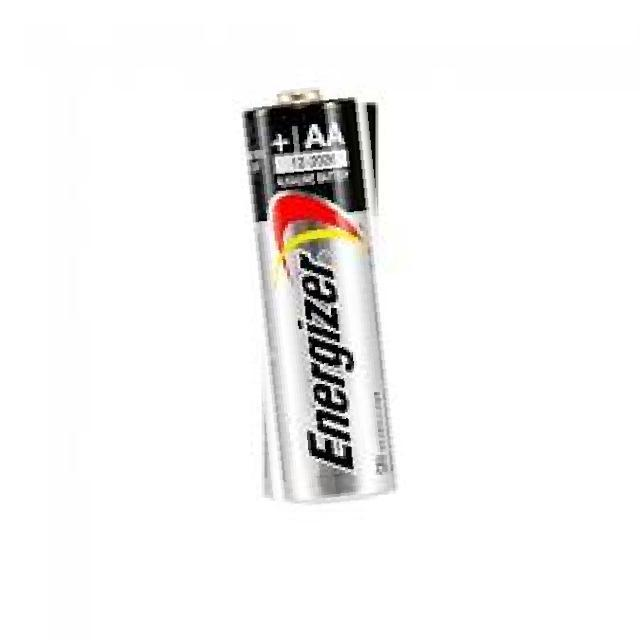Battery: (232, 81, 402, 508)
